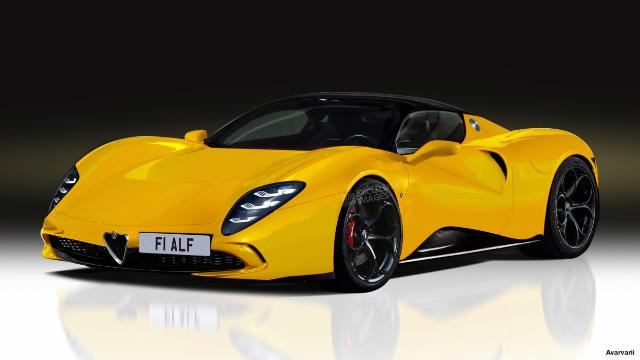alpha-romeo: (40, 90, 600, 294)
